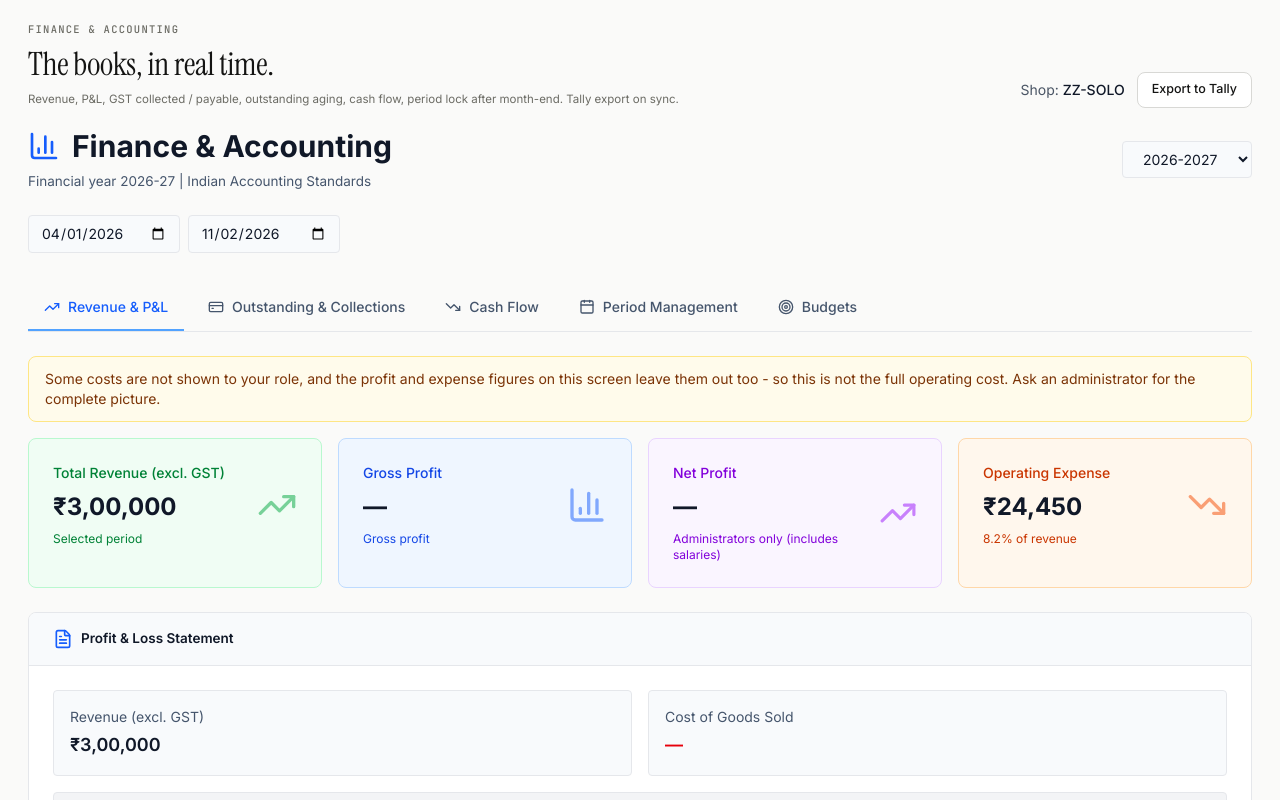
Scenario: FinanceDashboard cash flow tab - the short outflow declares itself › the cash flow banner follows the CASH FLOW flag, not the P&L flag
The width and height of the screenshot is (1280, 800).
What coordinates should you click on to do the following:
click the button "Cash Flow"
I would click on:
 (492, 308)
Its box is x1=429 y1=285 x2=555 y2=331.
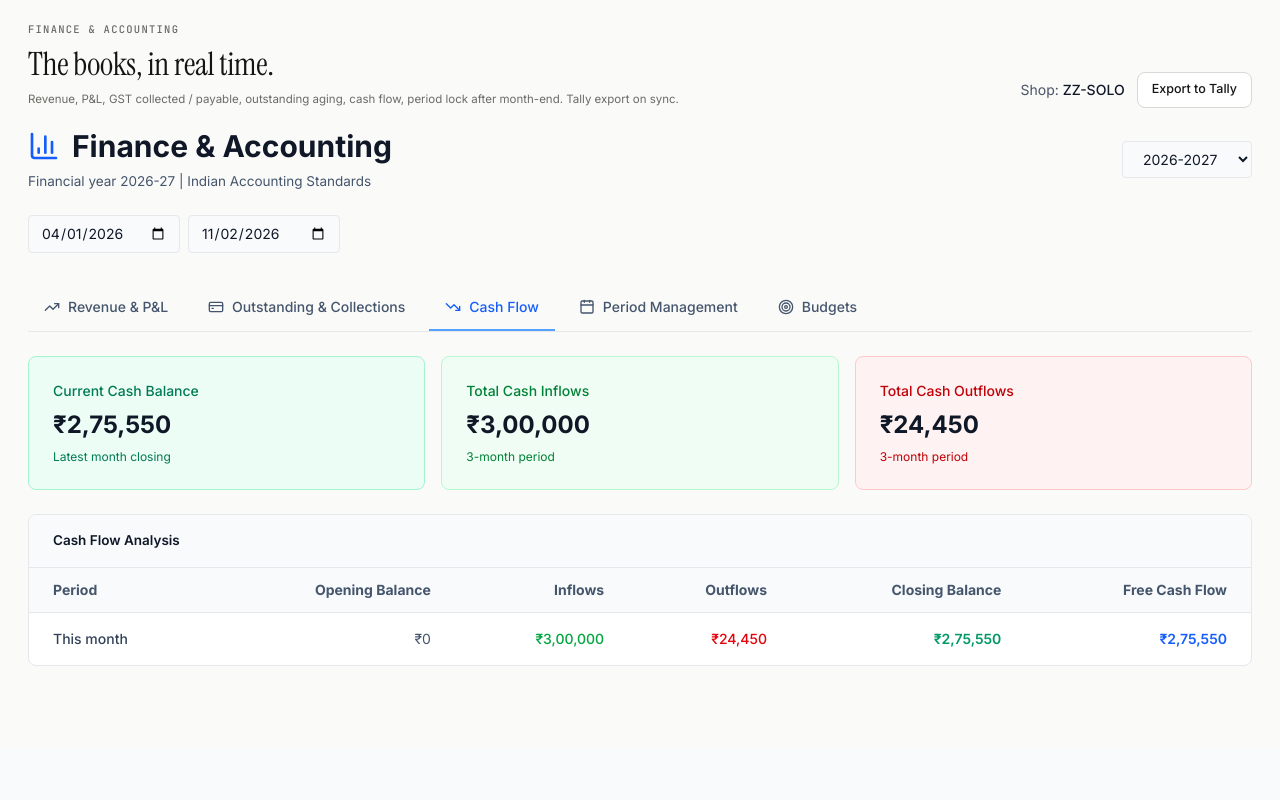
Now the message with test id "restricted-totals-notice" is gone
